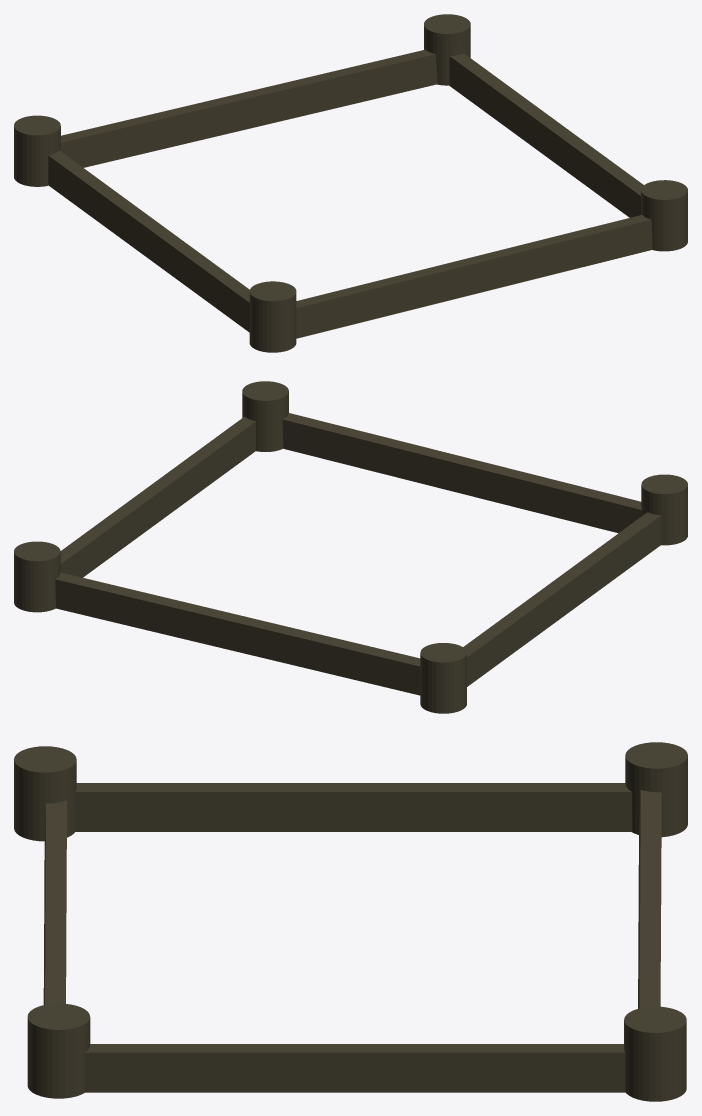
File: Fortress.glb
The picture shows the model from 3 angles, top to bottom: view 1: azimuth 30°, elevation 25°; view 2: azimuth 150°, elevation 25°; view 3: azimuth 270°, elevation 25°; orthographic projection. The views are drawn at different scales.
Parts seen in each view (by area): view 1: Cube.001; view 2: Cube.001; view 3: Cube.001.
Part boxes in pixels (bbox=[...]): Cube.001: bbox=[14, 14, 687, 352]; Cube.001: bbox=[14, 381, 687, 713]; Cube.001: bbox=[14, 742, 687, 1101].
Size of the model in its own units: 3.21 by 0.3751 by 3.11.
